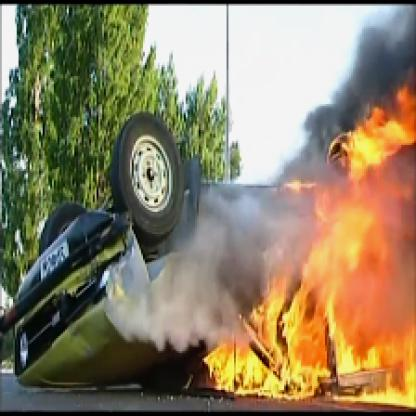Fire: (197, 50, 414, 412)
